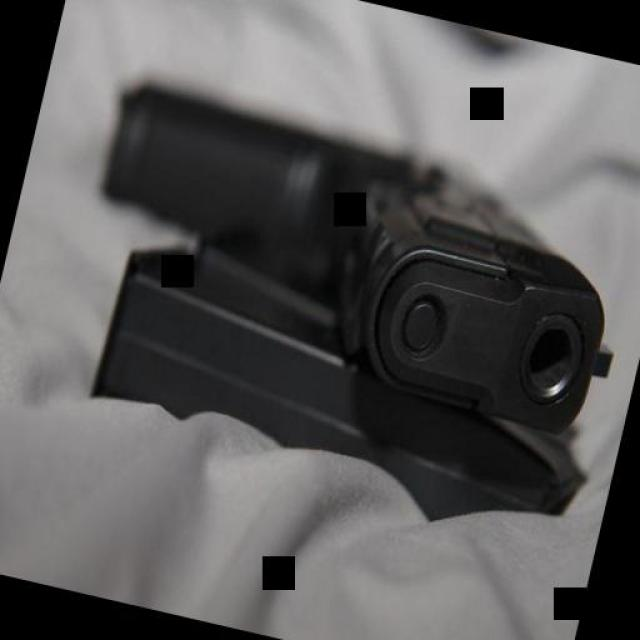gun: (64, 60, 640, 448)
